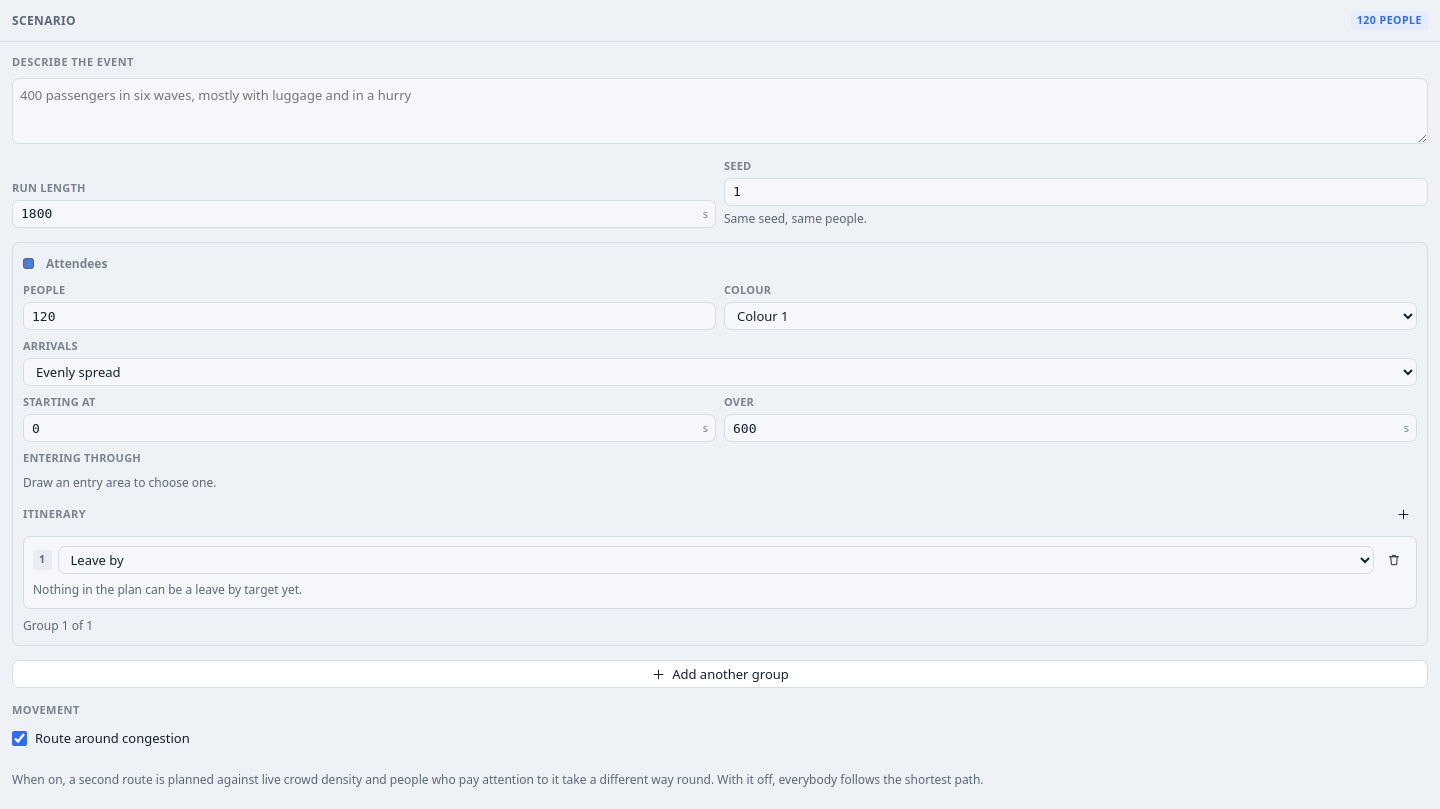
Scenario: the numbers a run depends on › lifts a run too short to be worth running up to the shortest one that is
The image size is (1440, 809).
Replace the text in the field labelled "Run length" with "5" at (364, 214), box [12, 200, 716, 228]
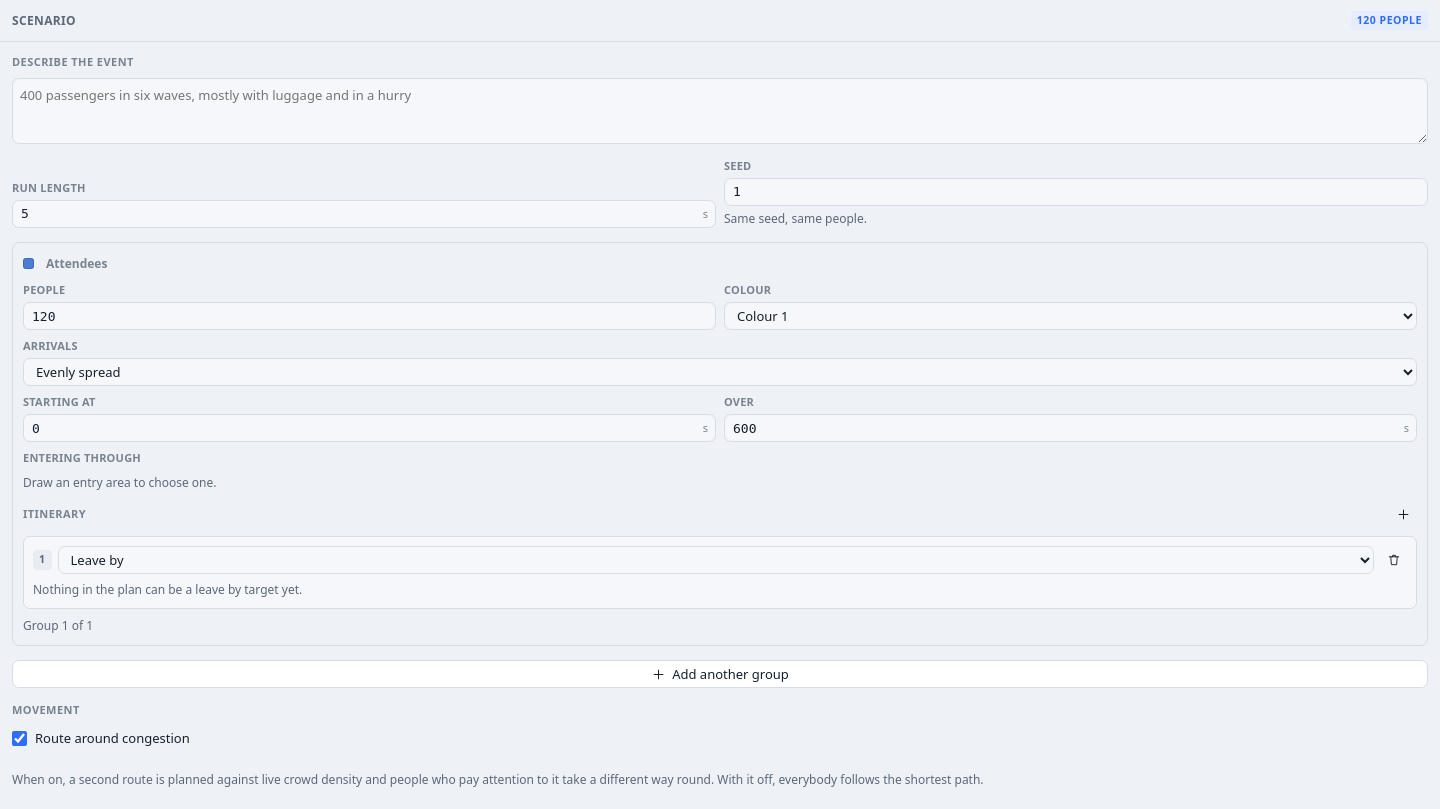
Leave the field labelled "Run length", box [12, 200, 716, 228]
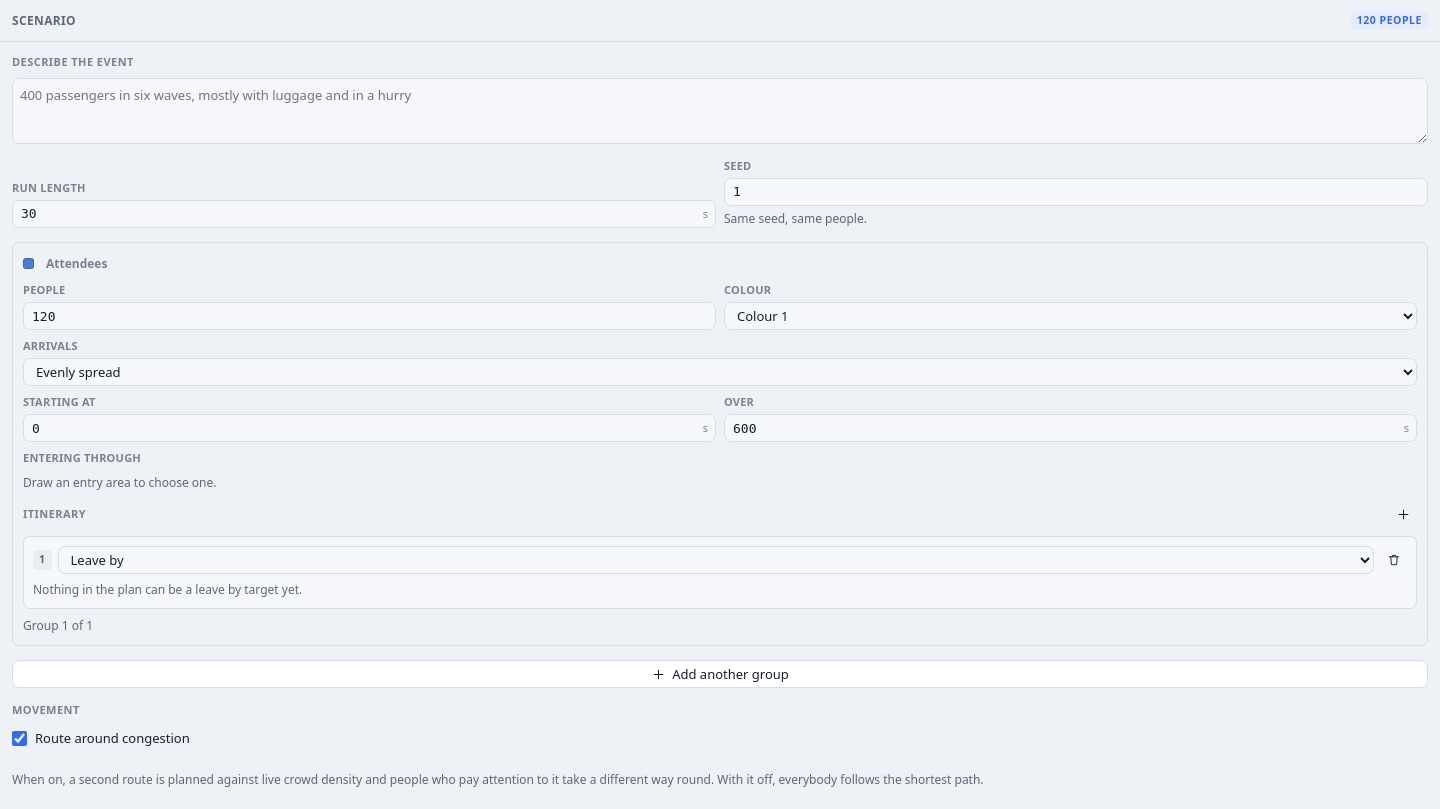
Expected: the field labelled "Run length" holds "30", [12, 200, 716, 228]
